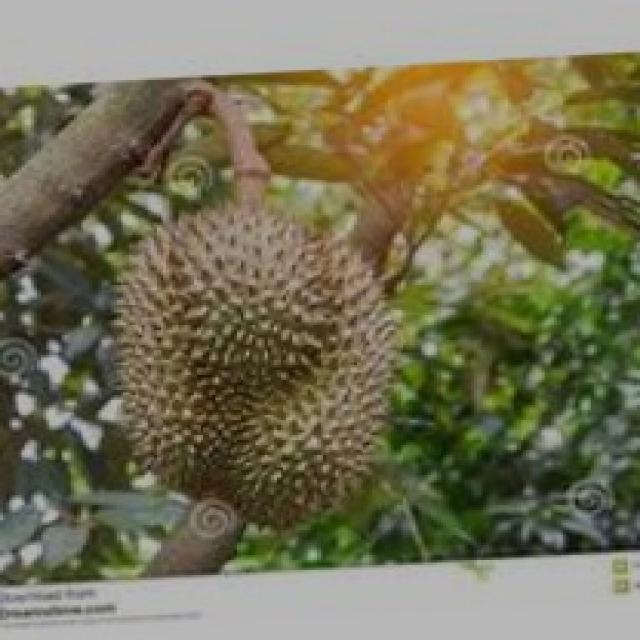fruit: (68, 170, 424, 552)
